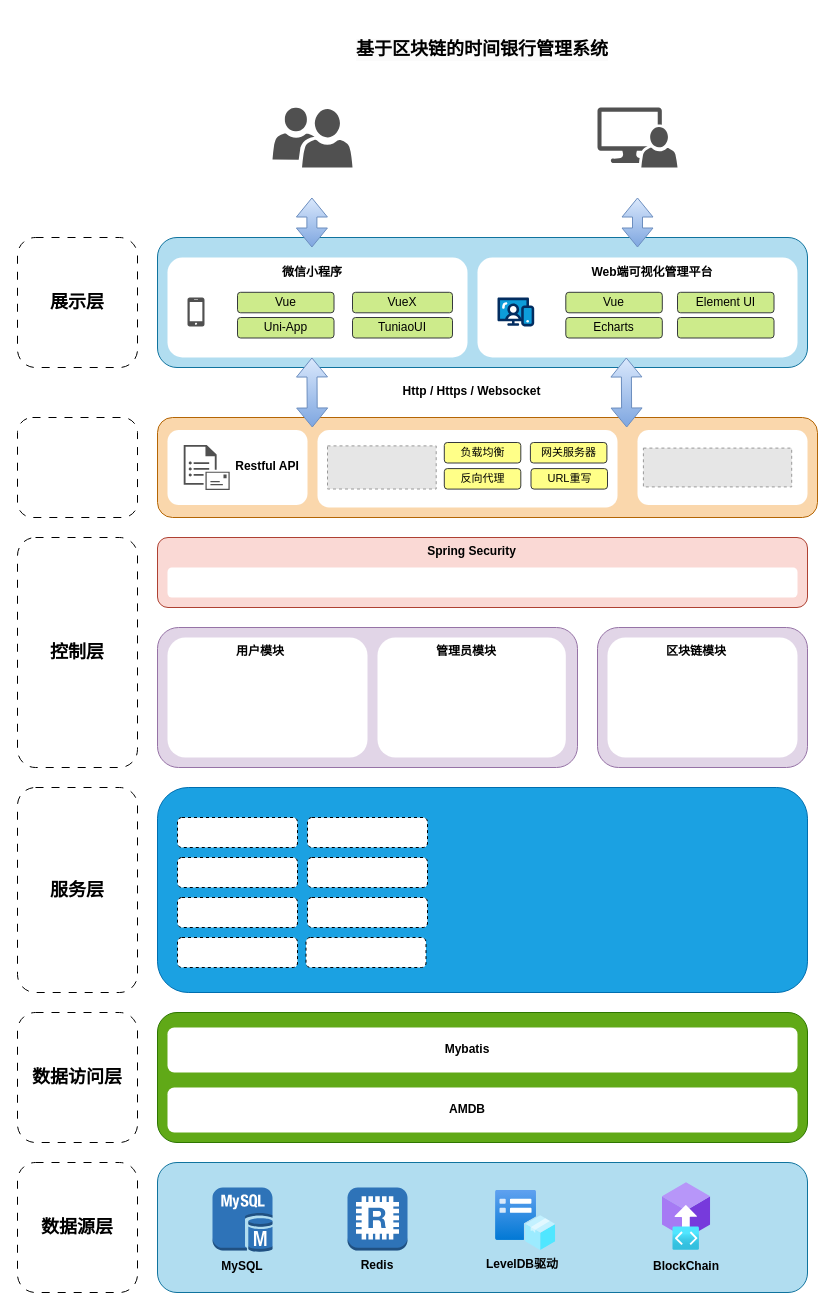
This 835x1310 diagram has some shape labels left out. Grey dashed boxes stand in for pictures. The centre of each missing label's shape, as x and y in pixels:
"接入层" belongs at point (77, 467).
"统一认证授权 / token 解析" belongs at point (482, 582).
